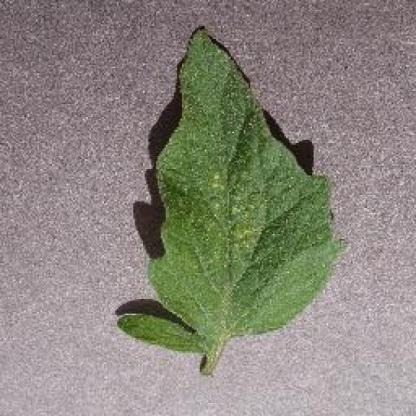Tomato_Spider_Mites: (118, 26, 335, 350)
